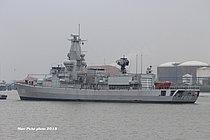MIL_Ship: (11, 33, 201, 104)
